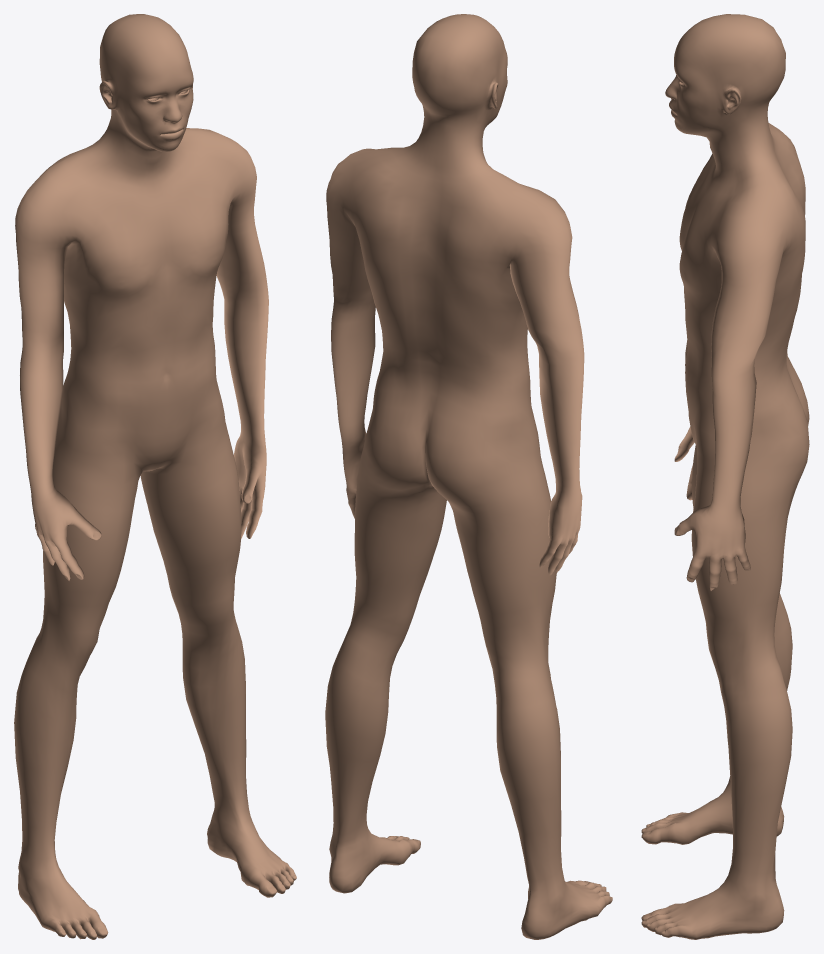
Rendered from mskba-male-player-body-posed-preview.glb.
The picture shows the model from 3 angles, left to right: view 1: azimuth 30°, elevation 25°; view 2: azimuth 150°, elevation 25°; view 3: azimuth 270°, elevation 25°; orthographic projection.
Parts seen in each view (by area): view 1: Body; view 2: Body; view 3: Body.
Boxes of the visible parts, x1,y1,x2,y2 form: Body: (14,14,296,939); Body: (325,14,612,939); Body: (641,14,809,939).
Bounding box in the file's own units: 0.5054 × 1.73 × 0.3043.
